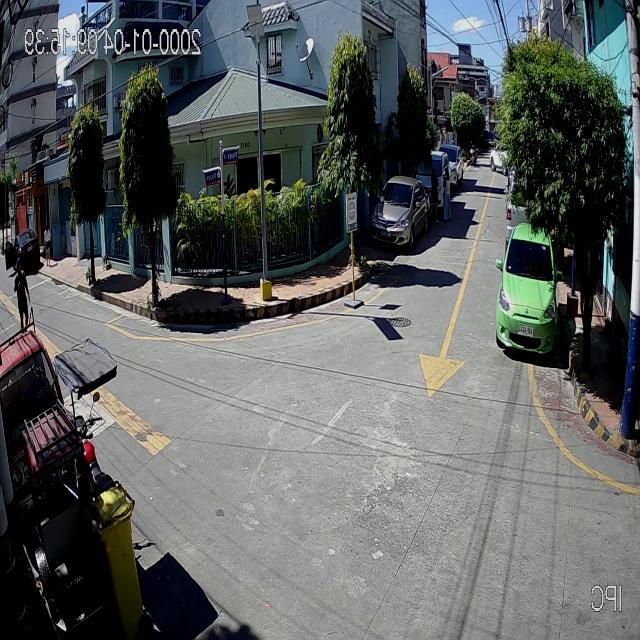walking: (14, 258, 30, 332), (44, 224, 51, 267)
